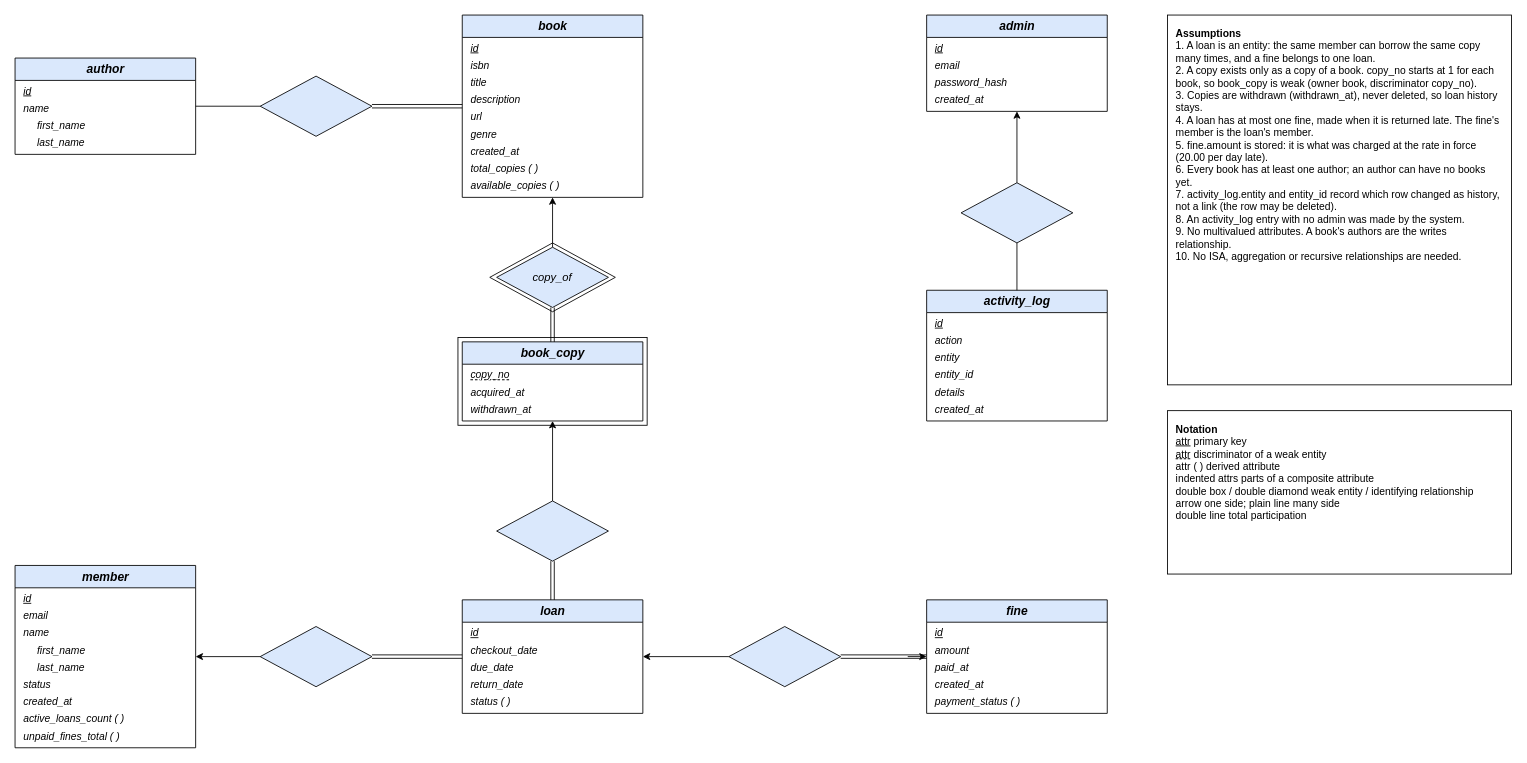
Some shapes in this 1527 by 763 pixel diagram are drawn without their labels. Each missing label, with the centre of its shape:
"borrows" goes at point (315, 656).
"incurs" goes at point (784, 656).
"lent_as" goes at point (552, 530).
"performs" goes at point (1016, 212).
"writes" goes at point (315, 105).
